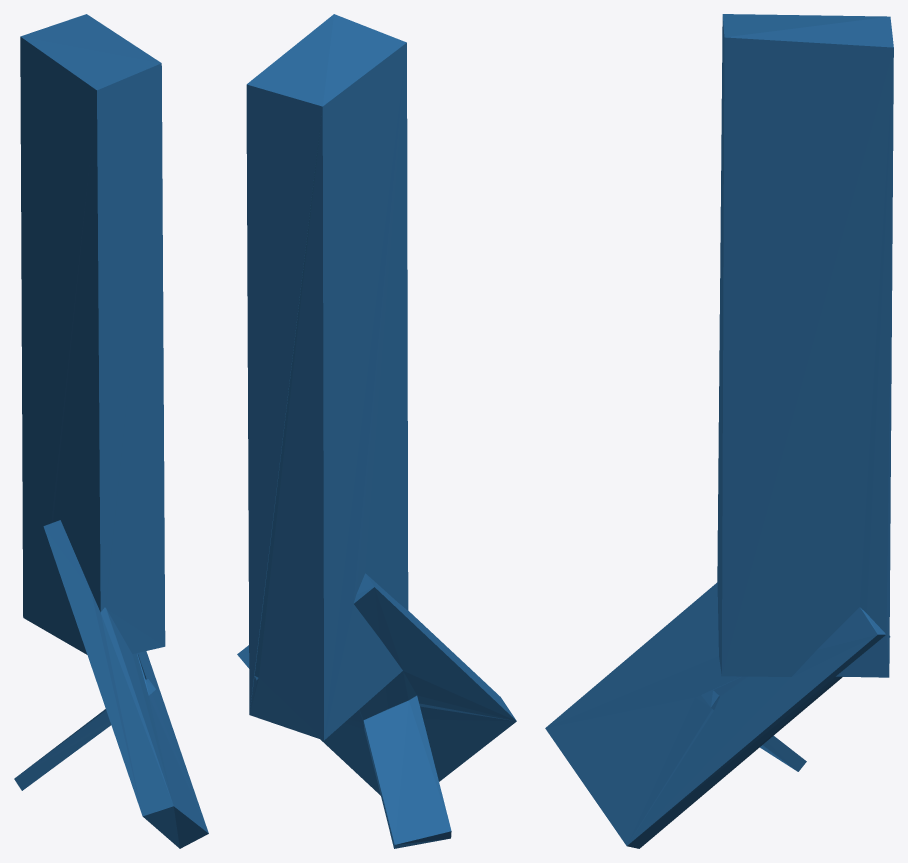
3 renders of one model, left to right at view 1: azimuth 30°, elevation 25°; view 2: azimuth 150°, elevation 25°; view 3: azimuth 270°, elevation 25°, orthographic. The views are drawn at different scales.
Parts seen in each view (by area): view 1: 519_Cube.2096; view 2: 519_Cube.2096; view 3: 519_Cube.2096.
Boxes of the visible parts, left/top/right/bottom form: 519_Cube.2096: left=14, top=14, right=208, bottom=848; 519_Cube.2096: left=237, top=14, right=516, bottom=848; 519_Cube.2096: left=545, top=14, right=893, bottom=848.
Bounding box in the file's own units: 3.15 × 15.53 × 5.97.
